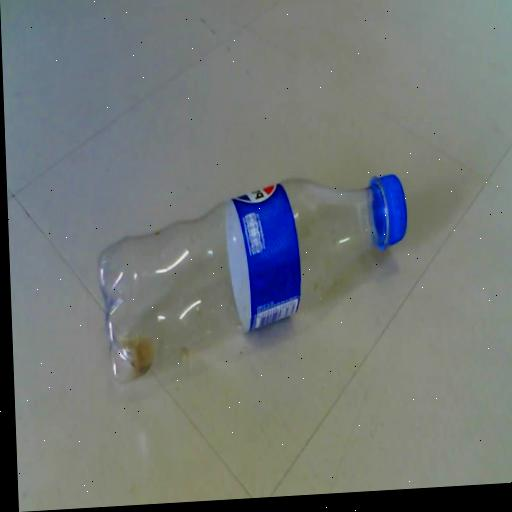bottle: (47, 121, 453, 431)
